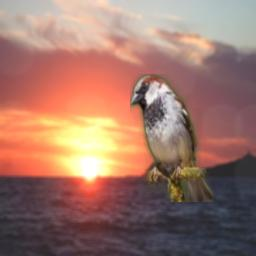Sparrow: (130, 74, 213, 202)
